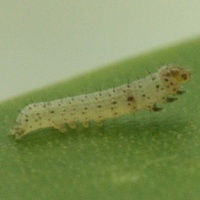insect: (10, 65, 190, 138)
